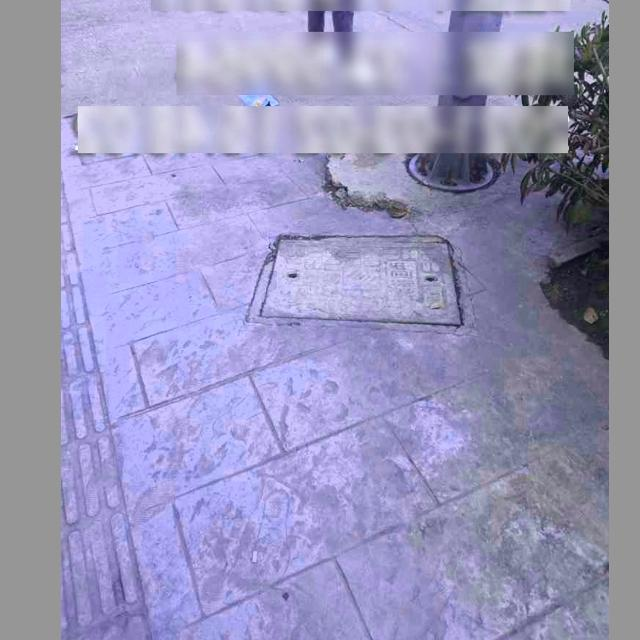good: (244, 232, 472, 334)
